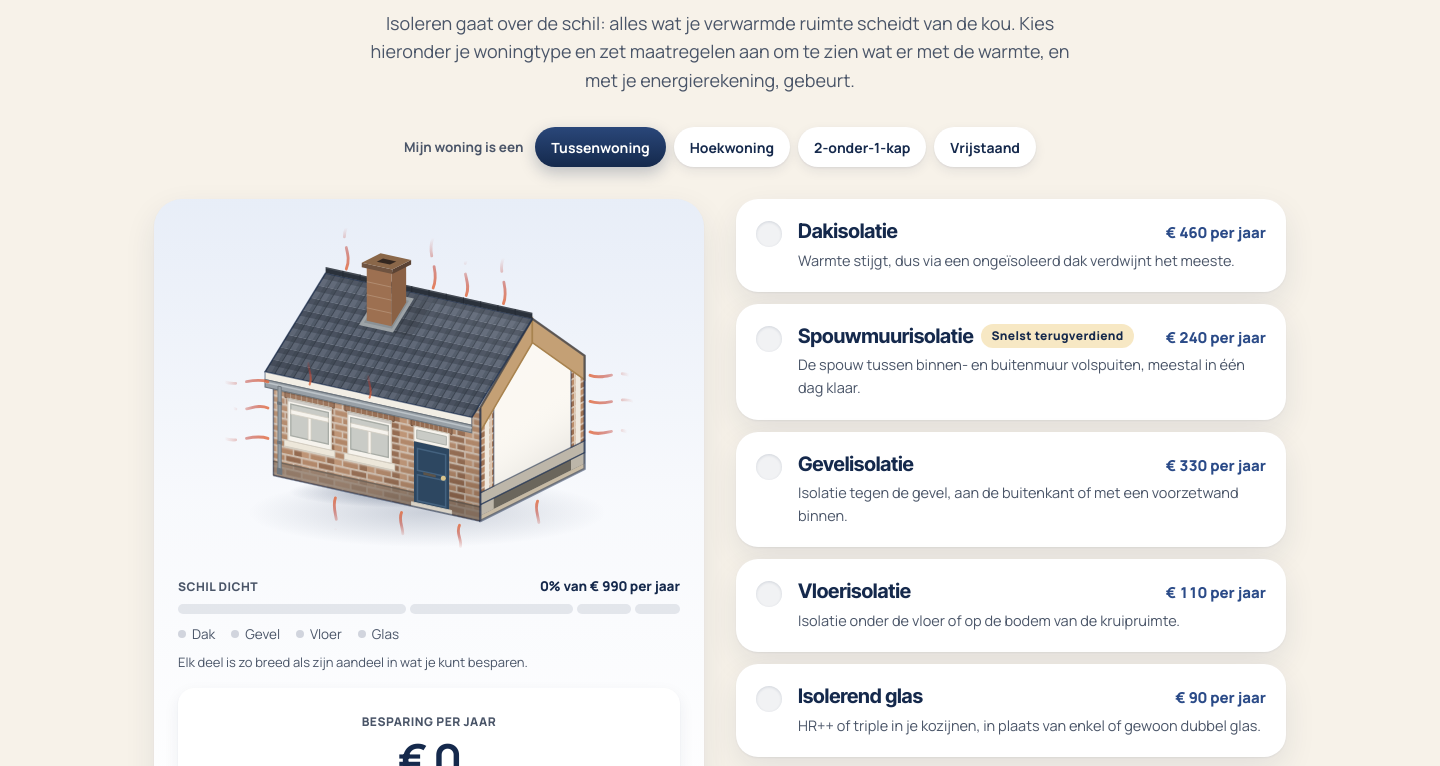
Test case: isolatiepagina: de configurator › toont per maatregel het uitgangspunt zodra je hem aanzet
(page scrolled)
Click the button that starts with "Spouwmuurisolatie": (1011, 362) [736, 304, 1286, 420]
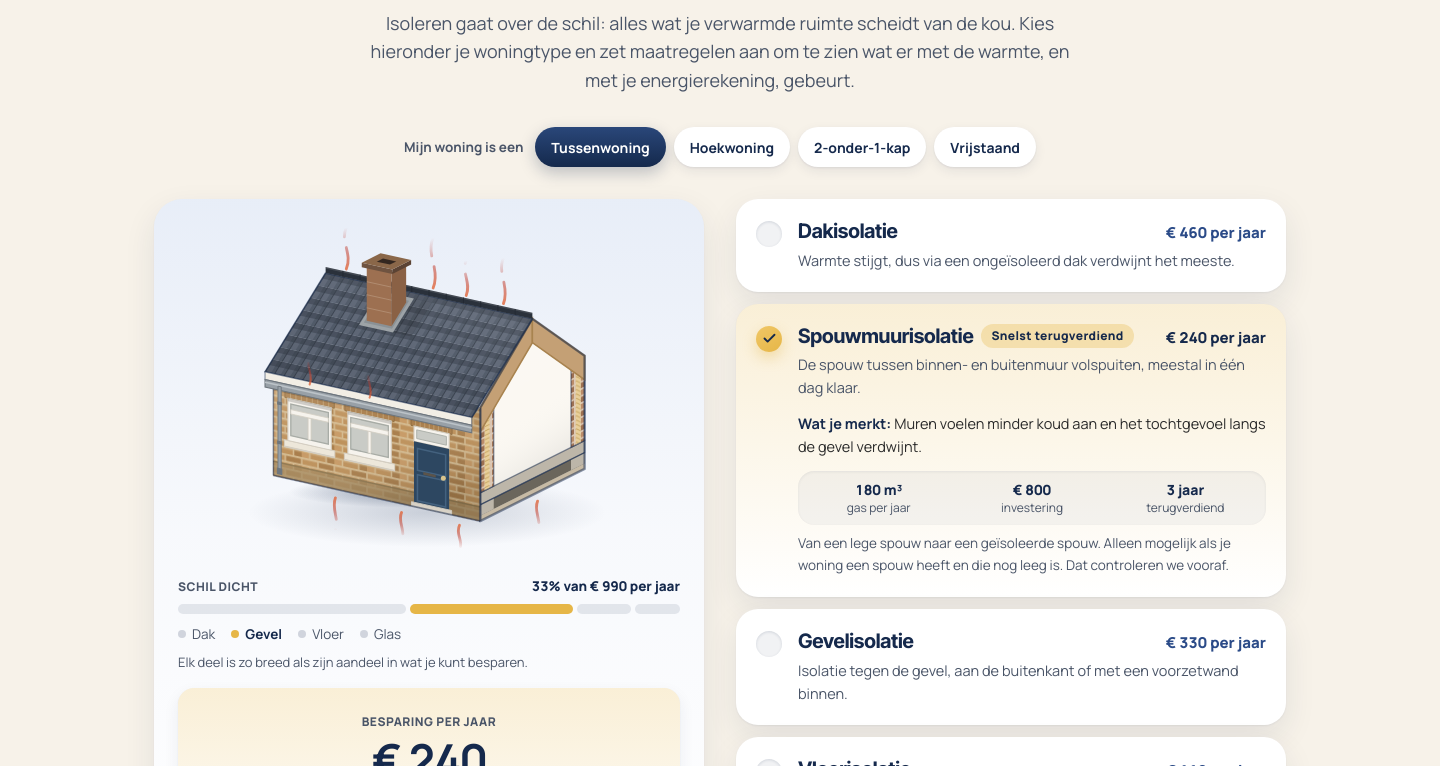
Result: the text "Alleen mogelijk als je woning een spouw " is shown at [798, 534, 1231, 574]
